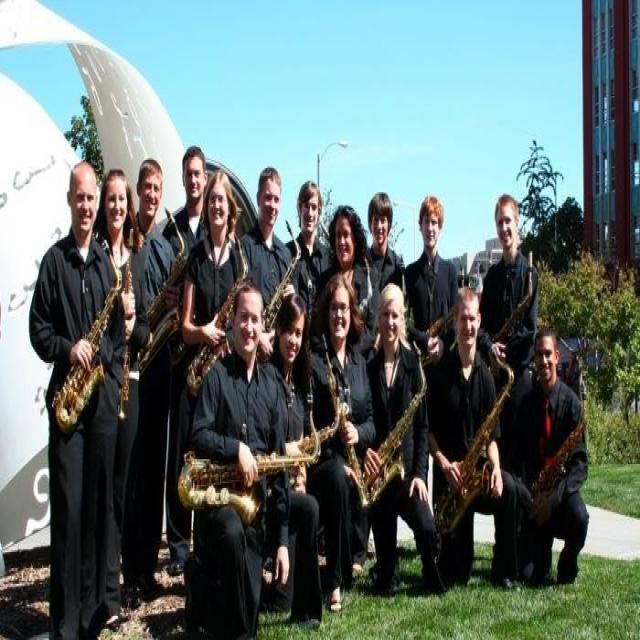saxophone: (176, 401, 326, 516), (432, 335, 510, 545), (352, 334, 427, 512), (51, 232, 118, 429), (524, 371, 595, 528), (184, 237, 253, 396), (129, 202, 190, 372), (485, 250, 537, 360), (256, 218, 300, 345)
